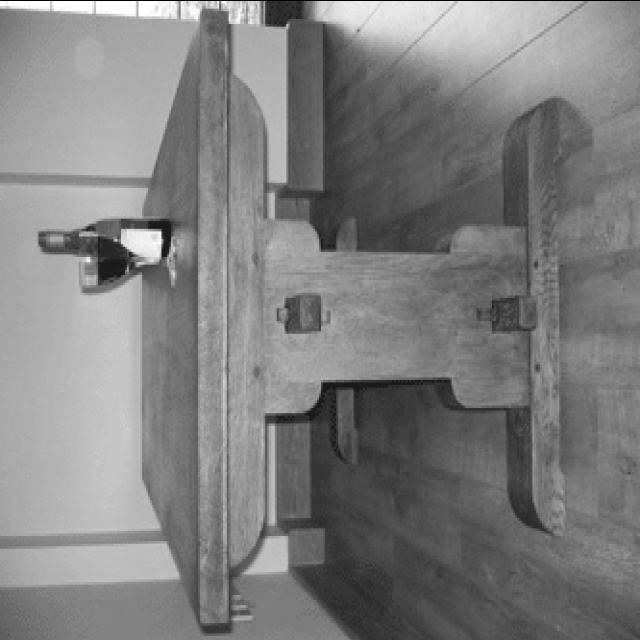table: (141, 7, 567, 625)
